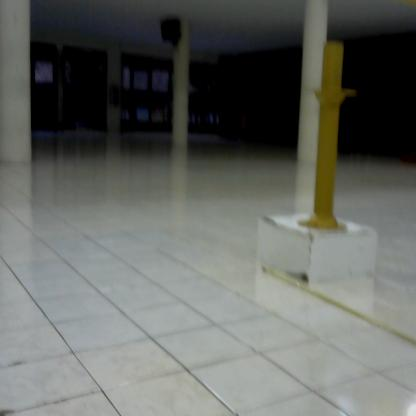pole: (297, 37, 365, 238)
